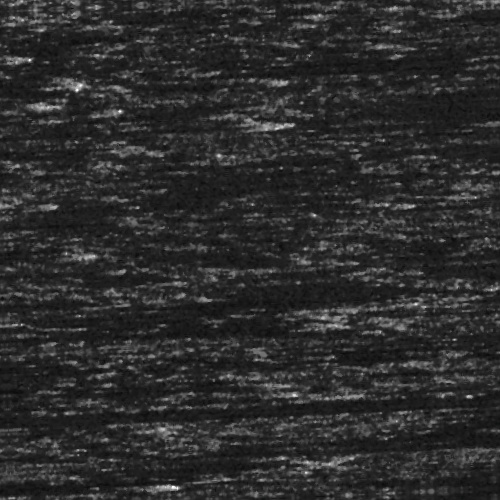object: (273, 318, 346, 337), (116, 478, 189, 485), (458, 67, 500, 78), (365, 203, 418, 210), (294, 24, 347, 29), (256, 381, 277, 386)
shadow: (40, 318, 309, 337), (215, 47, 500, 64), (261, 54, 500, 71), (257, 67, 500, 78), (216, 203, 392, 210), (391, 441, 500, 448), (365, 344, 500, 349), (61, 478, 152, 485), (176, 381, 266, 386), (232, 24, 320, 29), (456, 434, 500, 443), (465, 480, 500, 489), (468, 360, 500, 363)
